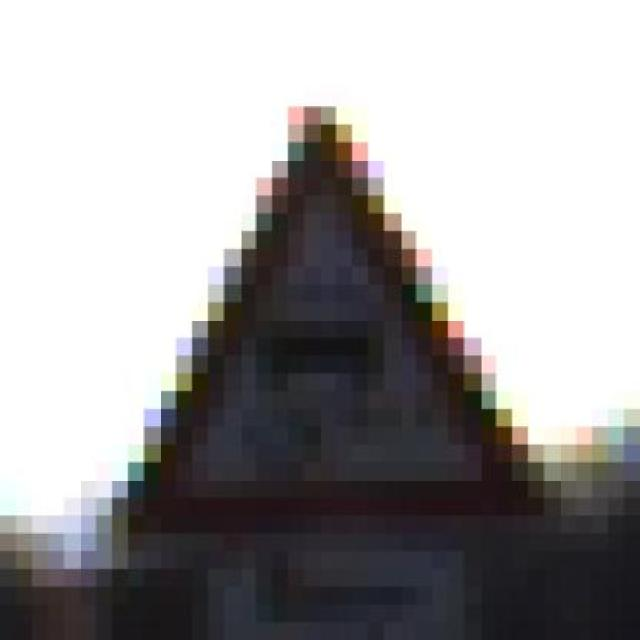Slippery Road Ahead: (95, 71, 560, 551)
